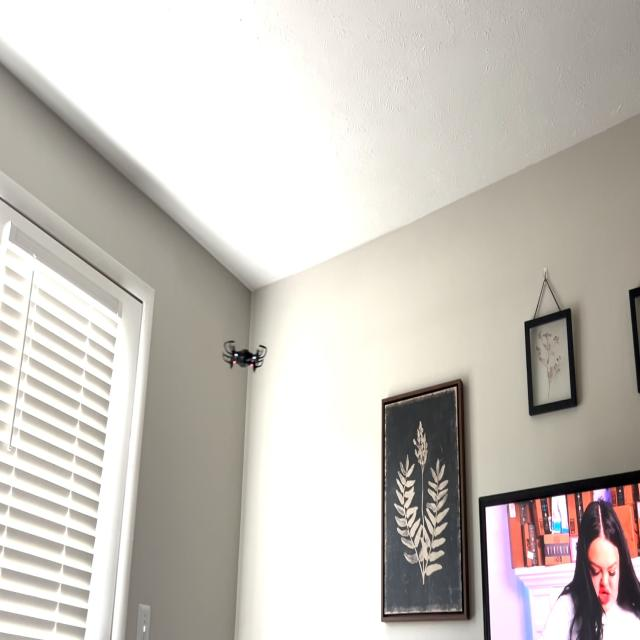drone: (215, 322, 271, 388)
